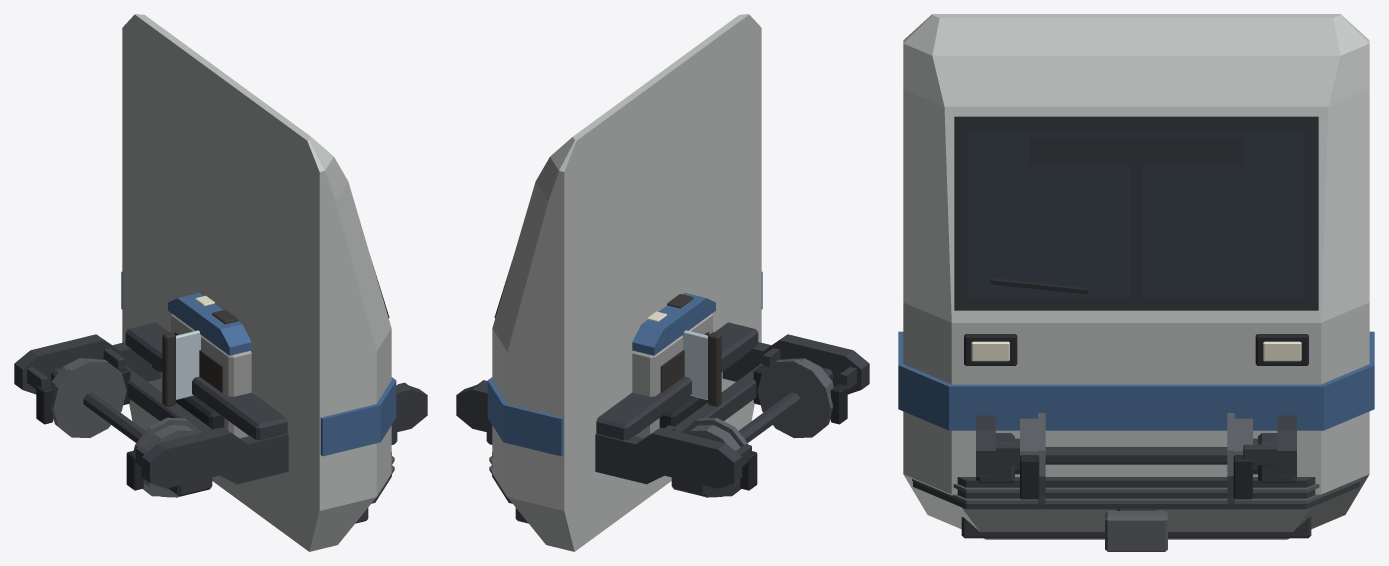
Rendered from Kit.fbx.
3 views of the same model, side by side, from view 1: azimuth 30°, elevation 25°; view 2: azimuth 150°, elevation 25°; view 3: azimuth 270°, elevation 25° (orthographic). The views are drawn at different scales.
Parts seen in each view (by area): view 1: CabFront_T_Body, Bogie_T_Steel, Bogie_T_Wheel, CabFront_T_Paint, TicketGate_G_Paint, Bogie_T_Rubber, TicketGate_G_Steel, GatePaddles_G_Glass, GatePaddles_G_Dark, TicketGate_G_Dark; view 2: CabFront_T_Body, Bogie_T_Steel, Bogie_T_Wheel, CabFront_T_Paint, TicketGate_G_Paint, Bogie_T_Rubber, TicketGate_G_Steel, GatePaddles_G_Glass, GatePaddles_G_Dark, TicketGate_G_Dark; view 3: CabFront_T_Body, CabFront_T_Glass, CabFront_T_Rubber, CabFront_T_Paint, CabFront_T_Steel, Bogie_T_Steel, CabFront_T_Wheel, Bogie_T_Wheel, Bogie_T_Rubber, CabFront_T_Lamp.
Part boxes in pixels (x1,y1,x2,y2): CabFront_T_Body: [122, 14, 391, 551]; Bogie_T_Steel: [14, 322, 427, 496]; Bogie_T_Wheel: [50, 358, 201, 497]; CabFront_T_Paint: [121, 271, 396, 456]; TicketGate_G_Paint: [168, 292, 251, 355]; Bogie_T_Rubber: [36, 365, 224, 490]; TicketGate_G_Steel: [171, 314, 251, 438]; GatePaddles_G_Glass: [176, 330, 201, 399]; GatePaddles_G_Dark: [162, 332, 175, 406]; TicketGate_G_Dark: [174, 309, 238, 392]; CabFront_T_Body: [492, 14, 761, 551]; Bogie_T_Steel: [456, 322, 869, 496]; Bogie_T_Wheel: [682, 358, 833, 497]; CabFront_T_Paint: [487, 271, 762, 456]; TicketGate_G_Paint: [632, 292, 715, 355]; Bogie_T_Rubber: [659, 365, 847, 490]; TicketGate_G_Steel: [632, 314, 712, 438]; GatePaddles_G_Glass: [682, 330, 707, 399]; GatePaddles_G_Dark: [708, 332, 721, 406]; TicketGate_G_Dark: [660, 294, 709, 392]; CabFront_T_Body: [903, 14, 1369, 539]; CabFront_T_Glass: [968, 129, 1304, 298]; CabFront_T_Rubber: [954, 116, 1318, 365]; CabFront_T_Paint: [898, 331, 1374, 430]; CabFront_T_Steel: [913, 477, 1359, 538]; Bogie_T_Steel: [976, 415, 1296, 483]; CabFront_T_Wheel: [912, 479, 1360, 551]; Bogie_T_Wheel: [1020, 413, 1252, 504]; Bogie_T_Rubber: [1020, 455, 1252, 499]; CabFront_T_Lamp: [971, 341, 1301, 361].
Bounding box in the file's own units: 7.8 × 11 × 9.8.
